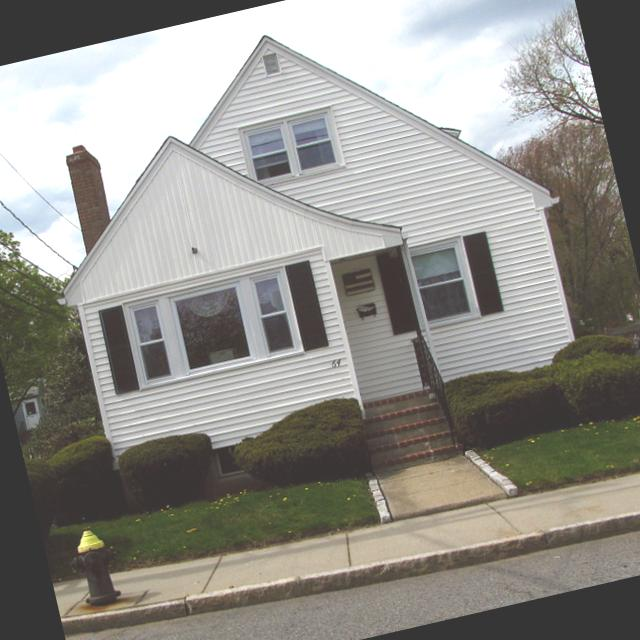Vehicle: (591, 303, 640, 355)
